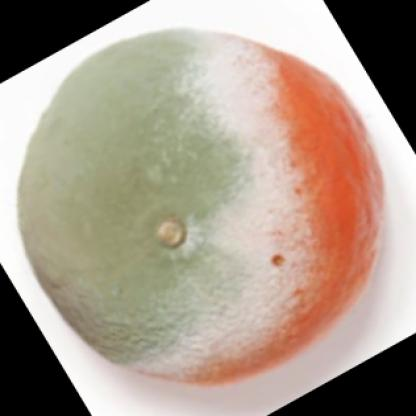rotten: (20, 30, 385, 387)
